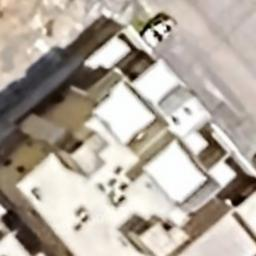SUV: (140, 10, 180, 48)
